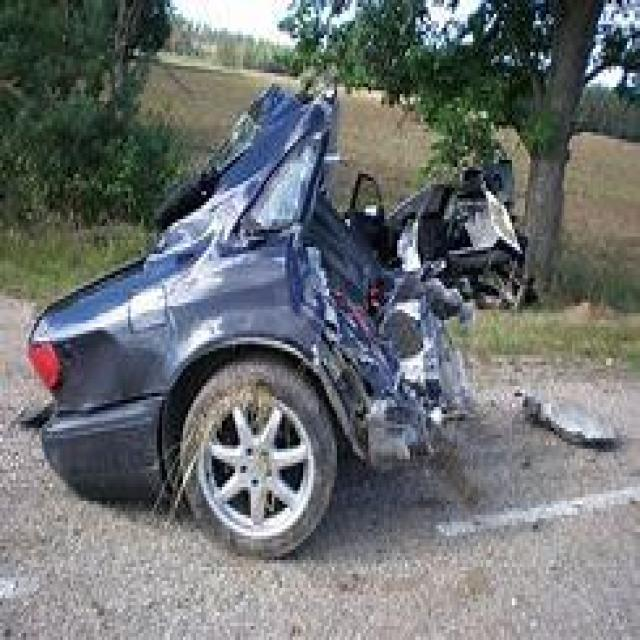Nguy hiểm: (11, 75, 562, 562)
